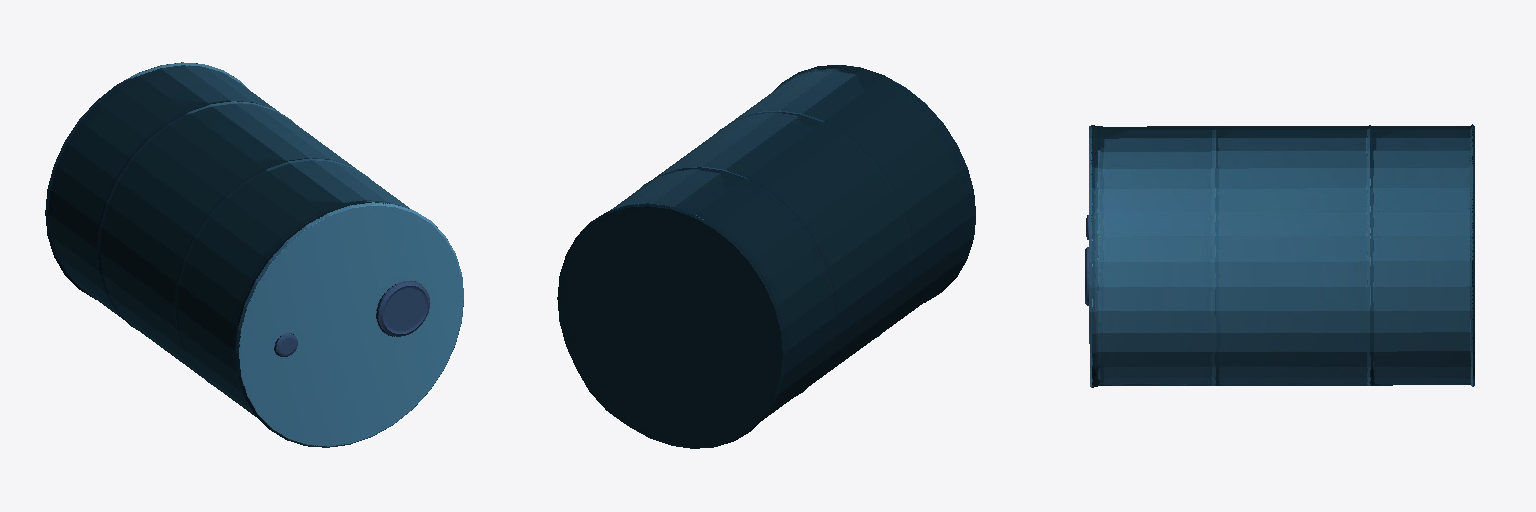
The picture shows the model from 3 angles: view 1: azimuth 30°, elevation 25°; view 2: azimuth 150°, elevation 25°; view 3: azimuth 270°, elevation 25°; orthographic projection.
Visible parts, largest first — view 1: Cilindro, Cilindro.001; view 2: Cilindro; view 3: Cilindro.
Boxes of the visible parts, x1,y1,x2,y2 form: Cilindro: [45, 62, 463, 447]; Cilindro.001: [276, 281, 429, 356]; Cilindro: [557, 65, 975, 448]; Cilindro: [1089, 124, 1474, 387].
Size of the model in its own units: 0.8605 by 0.8628 by 1.27.
Materials: 2 (1 with a texture image).